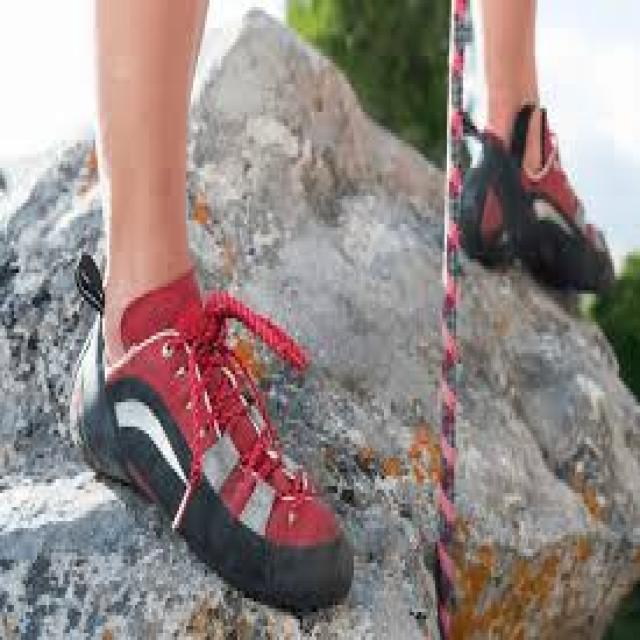climbing-shoes: (62, 258, 357, 603), (452, 103, 620, 298)
